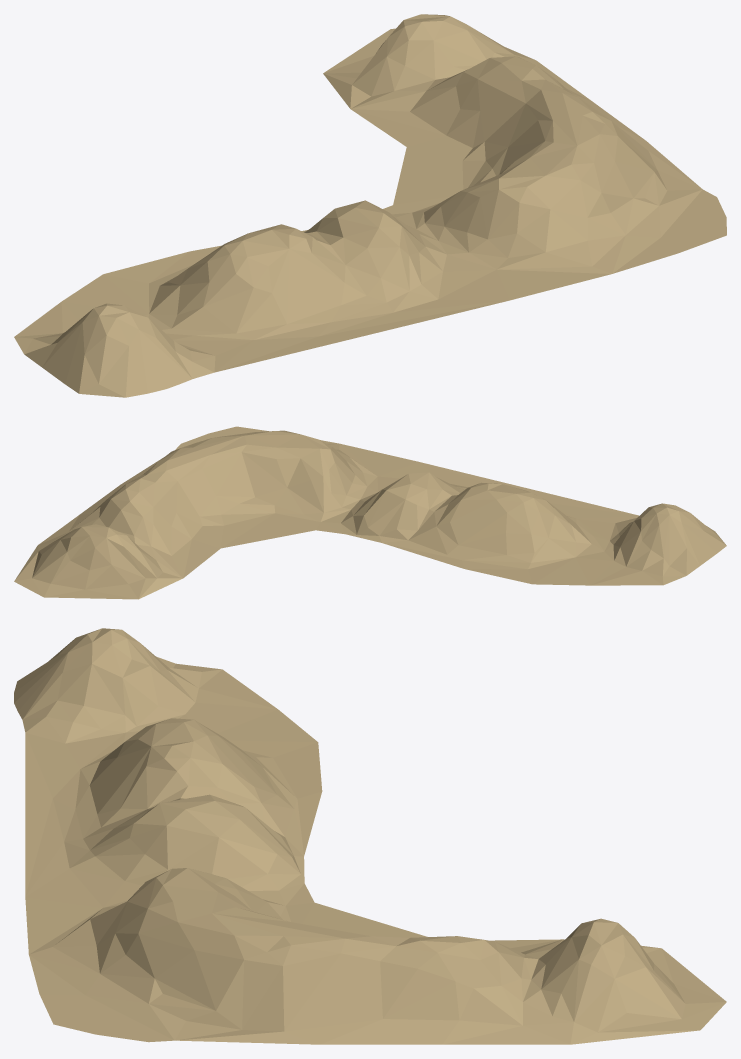
Rendered from SM_Env_Beach_05.glb.
3 renders of one model, top to bottom at view 1: azimuth 30°, elevation 25°; view 2: azimuth 150°, elevation 25°; view 3: azimuth 270°, elevation 25°, orthographic. The views are drawn at different scales.
Parts seen in each view (by area): view 1: SM_Env_Beach_05_part00; view 2: SM_Env_Beach_05_part00; view 3: SM_Env_Beach_05_part00.
Boxes of the visible parts, x1,y1,x2,y2 form: SM_Env_Beach_05_part00: (14,14,726,397); SM_Env_Beach_05_part00: (14,426,726,599); SM_Env_Beach_05_part00: (14,628,726,1044).
Size of the model in its own units: 33.78 by 2.8 by 26.71.
Materials: 1 (1 with a texture image).
